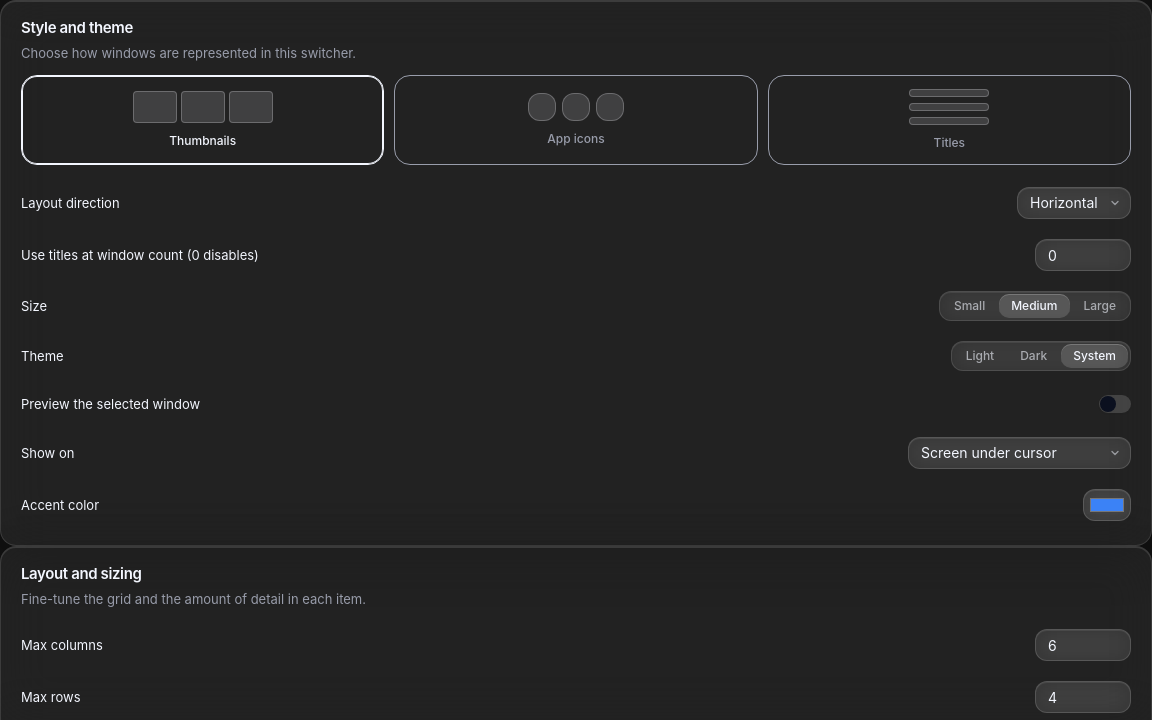
it: commits Max columns once on blur and clamps it to the field bounds
Replace the text in the number field labelled "Max columns" with "7" at (1083, 645), box [1035,629,1131,661]
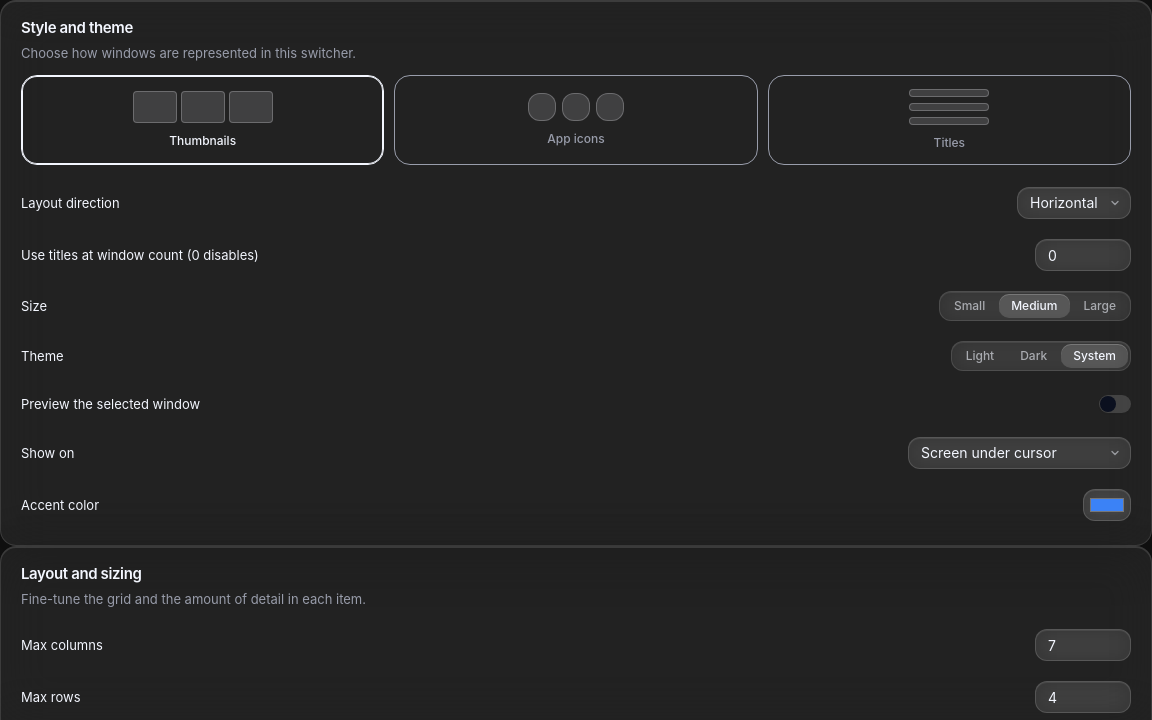
Leave the number field labelled "Max columns", box [1035,629,1131,661]
Replace the text in the number field labelled "Max columns" with "9" at (1083, 645), box [1035,629,1131,661]
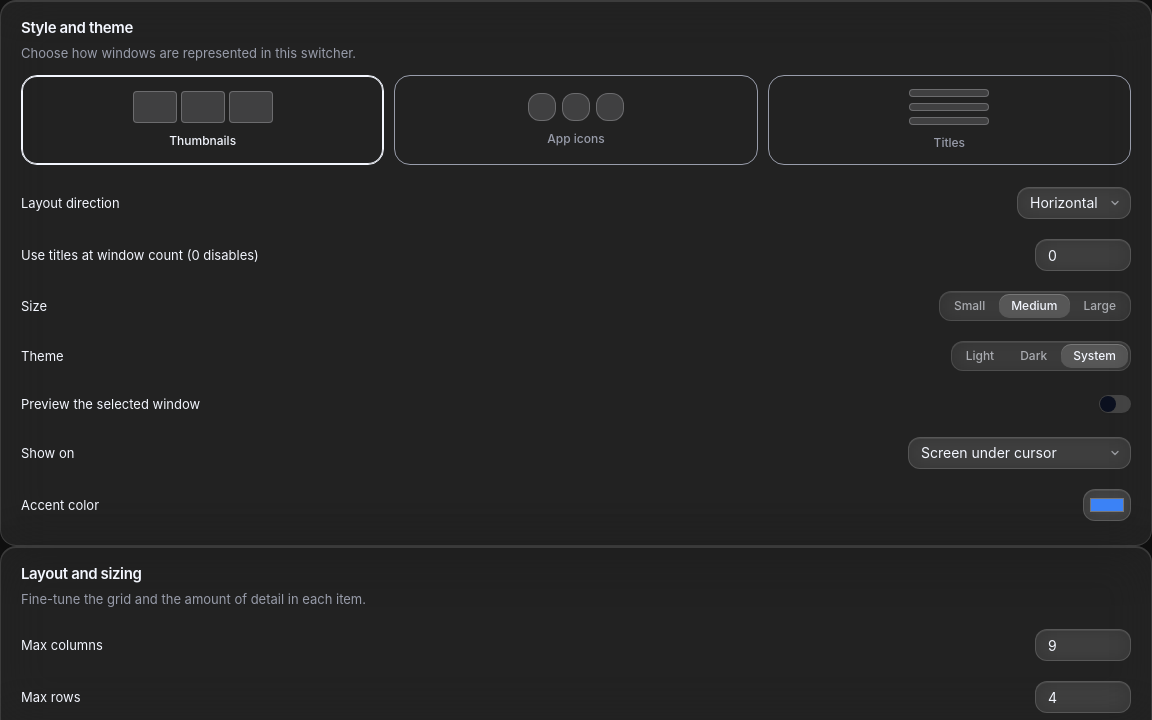
Replace the text in the number field labelled "Max columns" with "99" at (1083, 645), box [1035,629,1131,661]
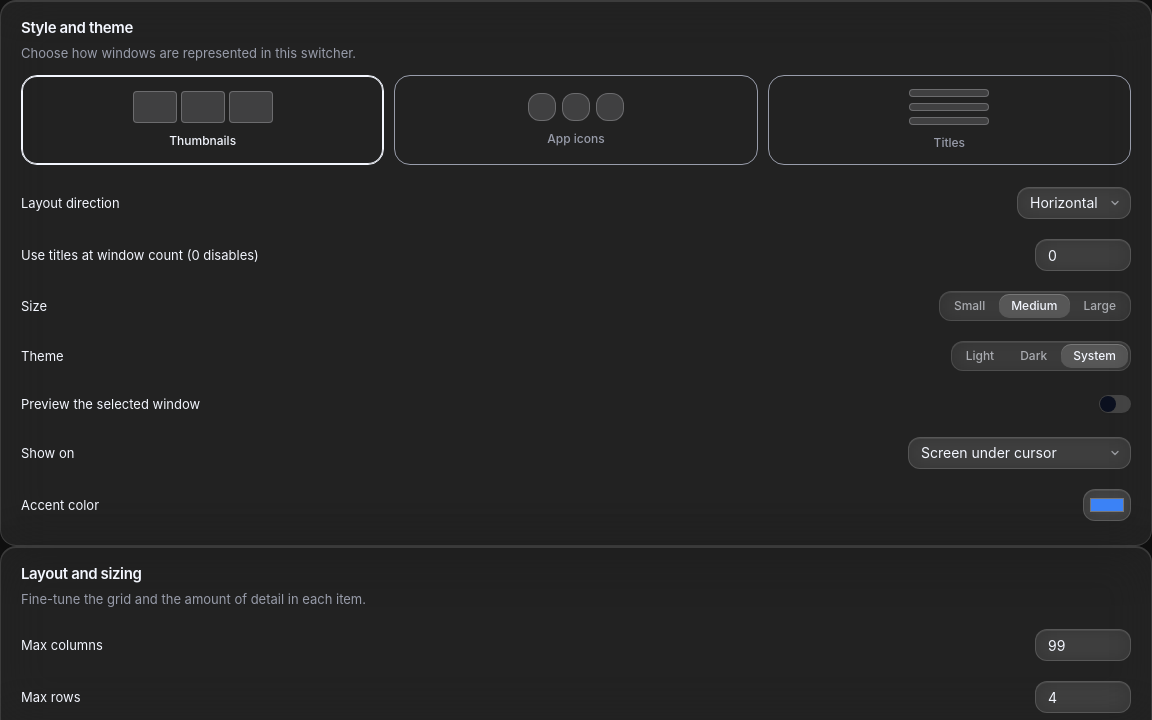
Leave the number field labelled "Max columns", box [1035,629,1131,661]
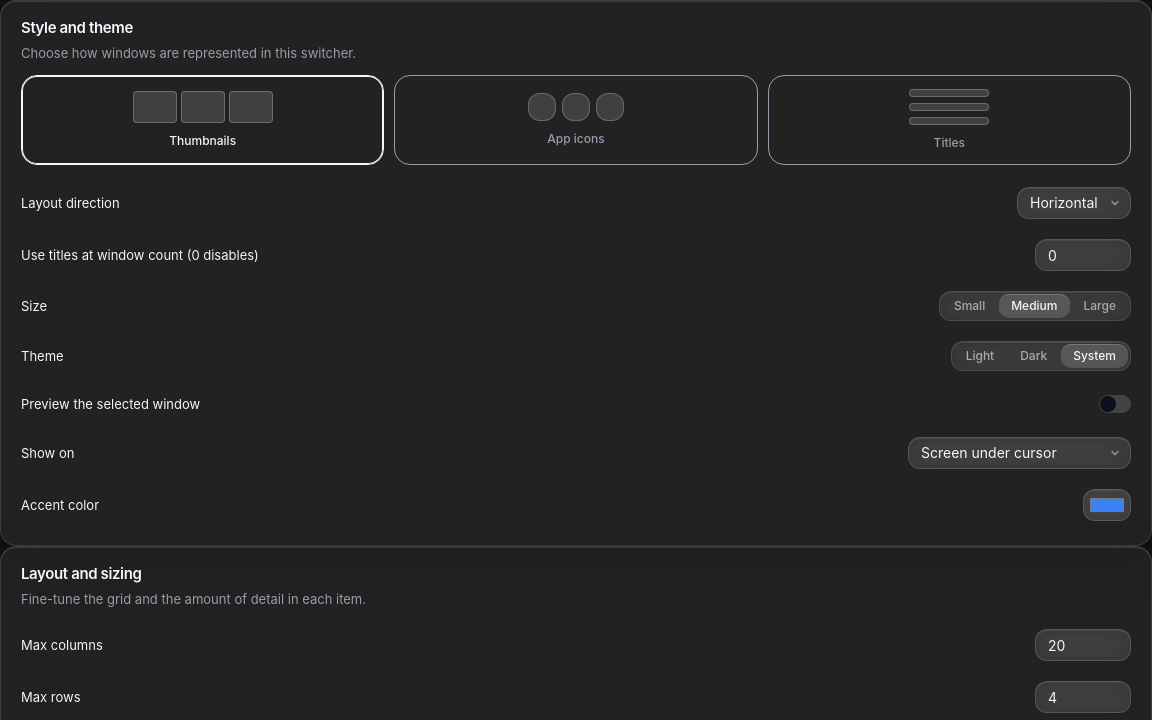
Now the number field labelled "Max columns" holds "20", box [1035,629,1131,661]
